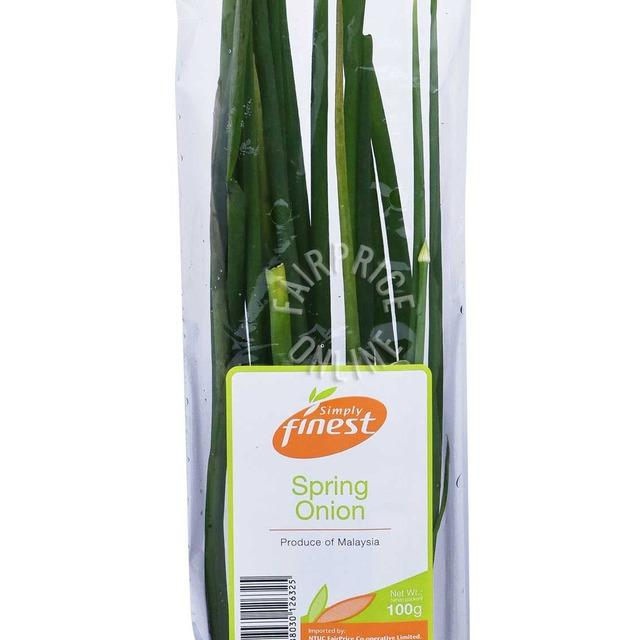green_onion: (175, 0, 491, 640)
